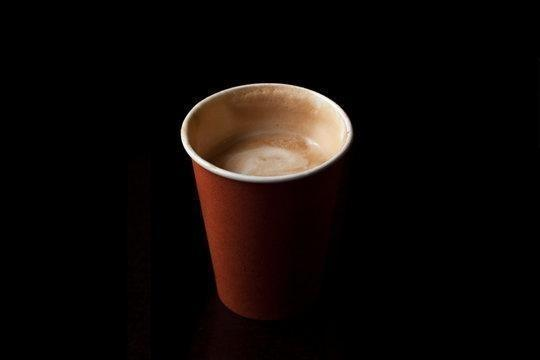cup-disposable: (179, 79, 355, 323)
